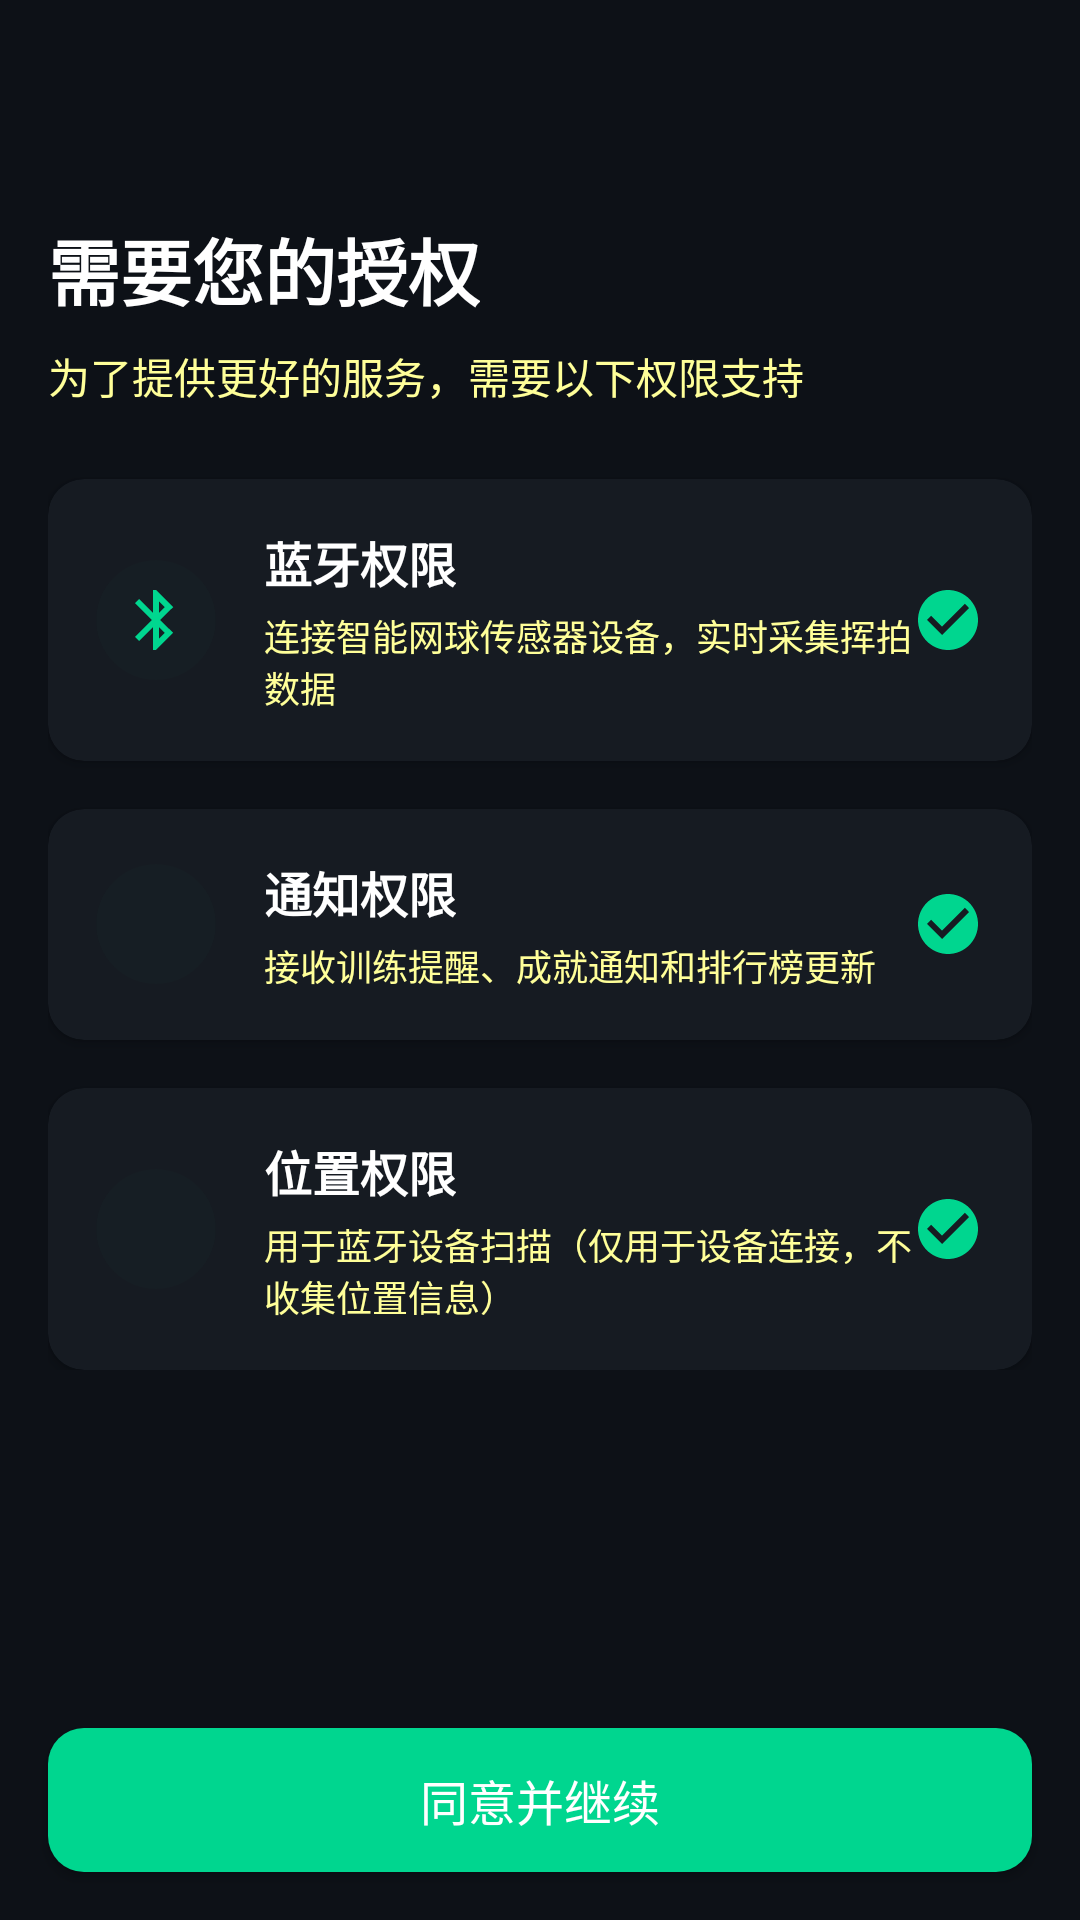

Point at icon controls on the screen. Image size 1080px×1920px, points as (x,y).
check circle: (948,620), (948,924), (948,1229)
